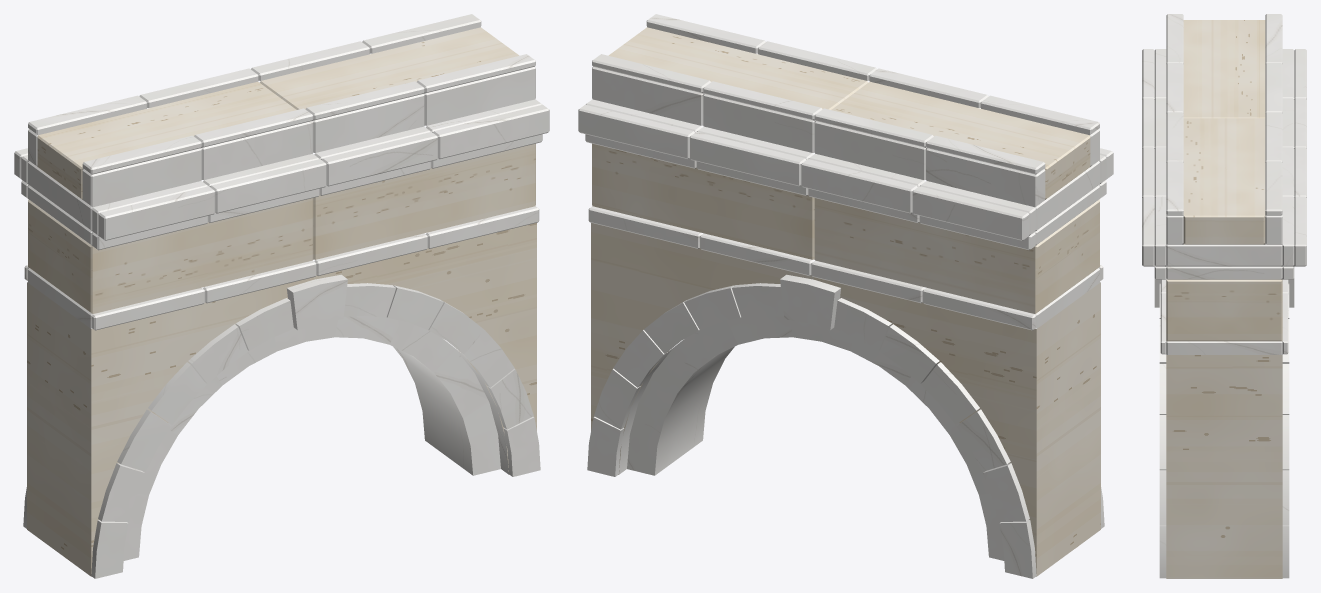
3 views of the same model, side by side, from view 1: azimuth 30°, elevation 25°; view 2: azimuth 150°, elevation 25°; view 3: azimuth 270°, elevation 25° (orthographic). The views are drawn at different scales.
Parts seen in each view (by area): view 1: Mesh_arcade_arch; view 2: Mesh_arcade_arch; view 3: Mesh_arcade_arch.
Part boxes in pixels (box(x1,y1,x2,y2)): Mesh_arcade_arch: box(14, 14, 549, 578); Mesh_arcade_arch: box(578, 14, 1113, 578); Mesh_arcade_arch: box(1142, 14, 1306, 578).
Size of the model in its own units: 4.8 by 4.2 by 1.7.
Materials: 1 (1 with a texture image).
